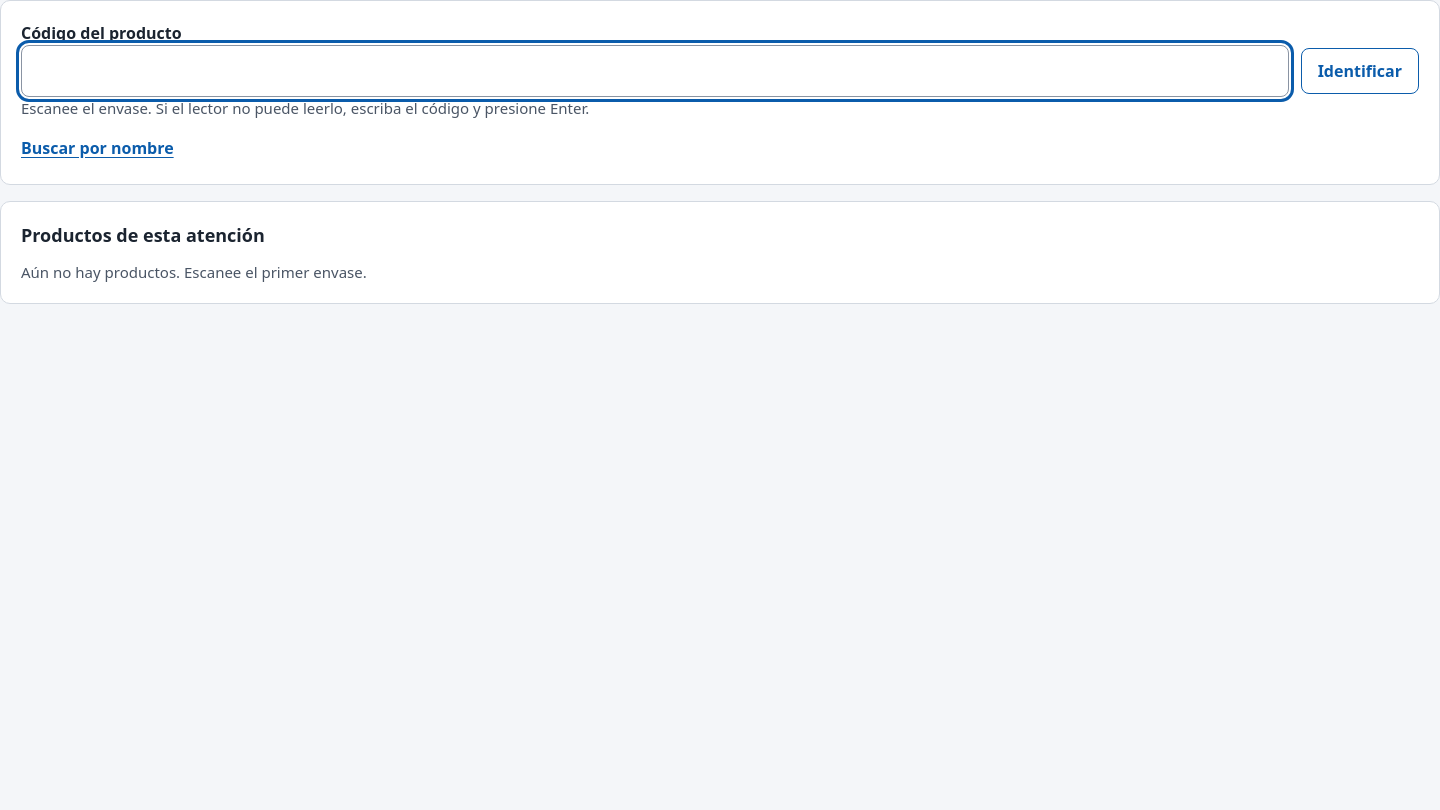
Test: Posología en el mesón (HU-03) › con plantillas de la comuna, elegir una deja la posología registrada sin escribir
Type keys "7802250012344{Enter}"
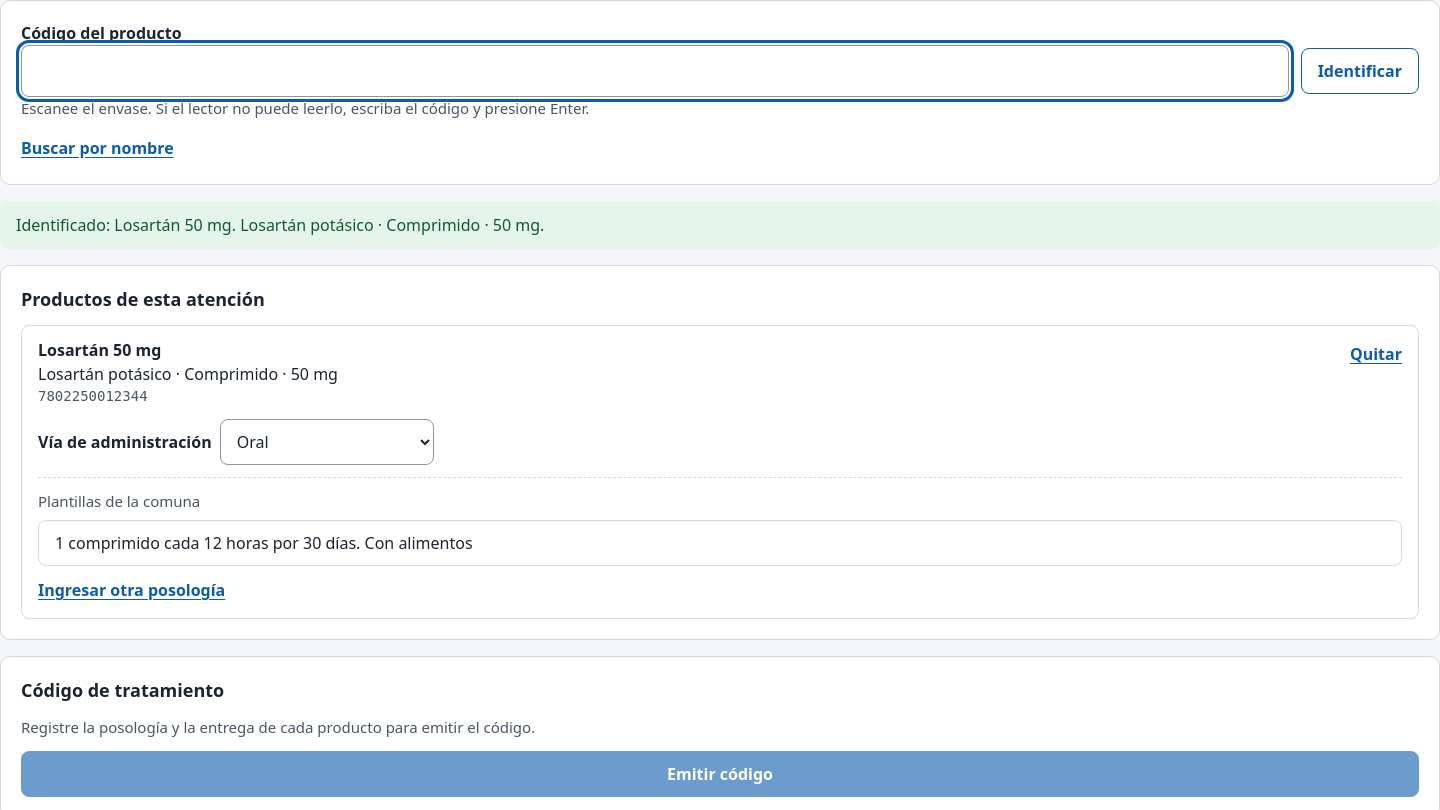
Click the button "1 comprimido cada 12 horas por 30 días. Con alimentos": [264, 543] box [38,520,1402,566]
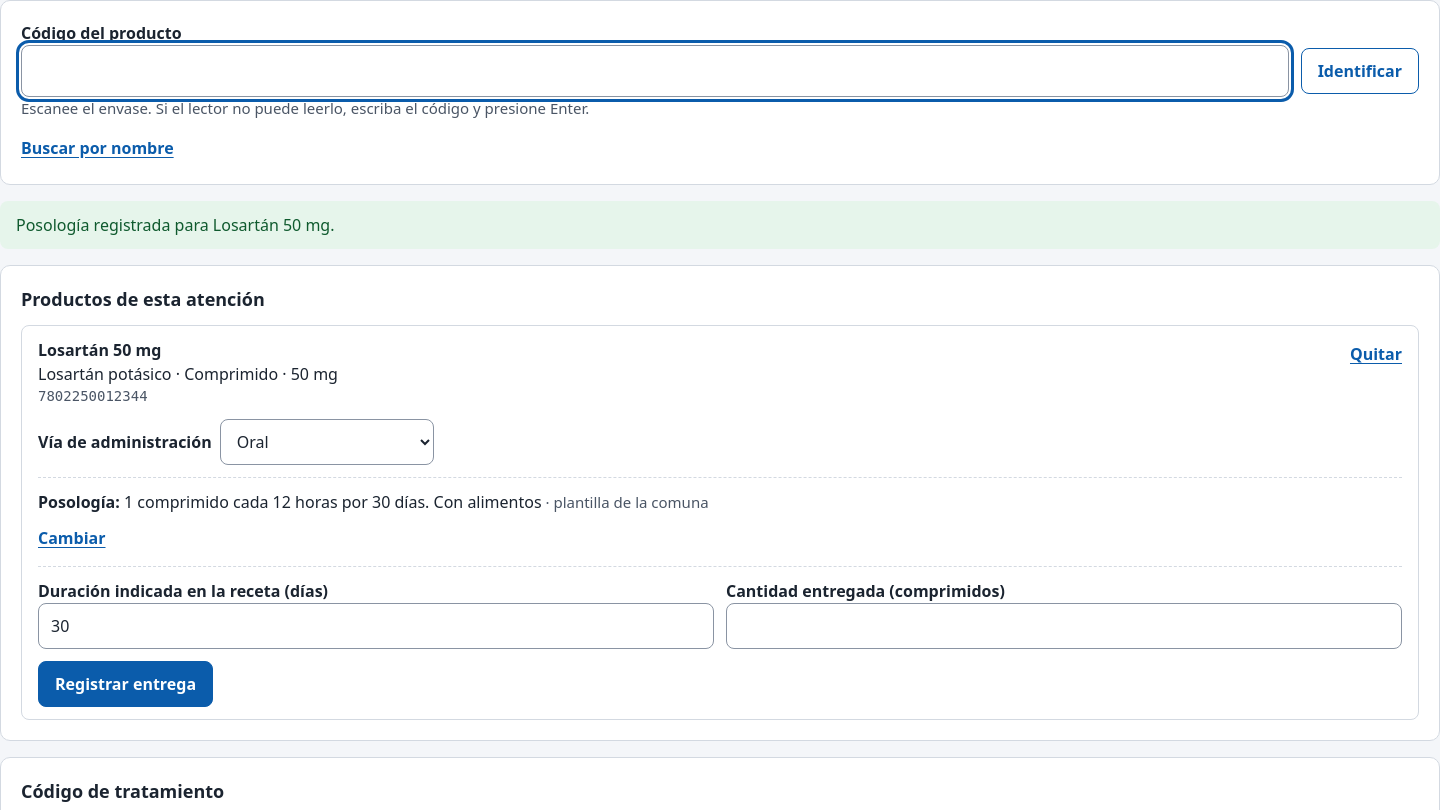
Result: the text "1 comprimido cada 12 horas por 30 días. Con alimentos" is shown at [124,490,542,512]
Result: the text "· plantilla de la comuna" is shown at [542,492,709,512]
Result: the text "Posología registrada para Losartán 50 mg." is shown at [0,200,1439,248]
